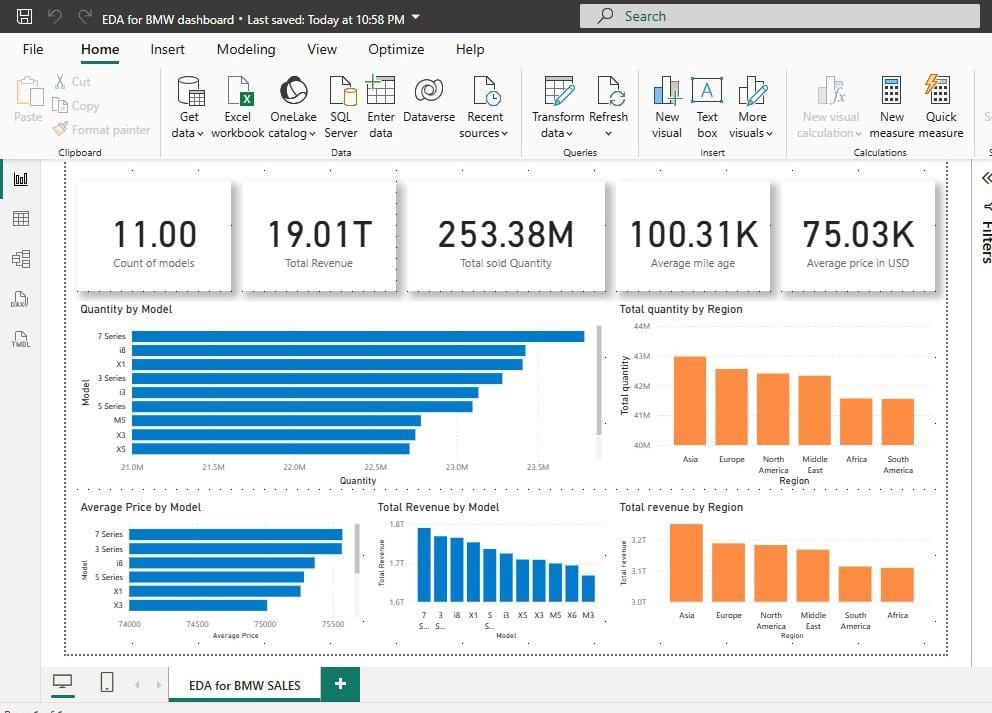

What the dashboard file says about the page in this screenshot:
{"tool":"powerbi","page":{"name":"EDA for BMW SALES","canvas":[1280,720],"ordinal":0},"visuals":[{"type":"card","fields":{"Values":["Sum(Measures (2).Measure value)"]},"box":[496,32,288,160],"z":0},{"type":"card","fields":{"Values":["Sum(Measures (2).Measure value)"]},"box":[256,32,224,160],"z":1},{"type":"card","fields":{"Values":["Sum(Measures (2).Measure value)"]},"box":[1040,32,224,160],"z":2},{"type":"card","fields":{"Values":["Sum(Measures (2).Measure value)"]},"box":[800,32,224,160],"z":3},{"type":"card","fields":{"Values":["Sum(Measures (2).Measure value)"]},"box":[16,32,224,160],"z":4},{"type":"barChart","fields":{"Category":["Total Quantities by model.Model"],"Y":["Sum(Total Quantities by model.Quantity)"]},"box":[16,208,768,272],"z":5},{"type":"clusteredColumnChart","fields":{"Category":["Total Revenue By model.Model"],"Y":["Sum(Total Revenue By model.Total Revenue)"]},"box":[448,496,336,208],"z":6},{"type":"clusteredColumnChart","fields":{"Y":["Sum(Total Quantities by region.Quantity)"],"Category":["Total Quantities by region.Region"]},"box":[800,208,464,272],"z":7},{"type":"clusteredBarChart","fields":{"Category":["Average Price By model.Model"],"Y":["Sum(Average Price By model.Average Price)"]},"box":[16,496,416,208],"z":8},{"type":"clusteredColumnChart","fields":{"Category":["Total Revenue By Region.Column1"],"Y":["Sum(Total Revenue By Region.Column2)"]},"box":[800,496,464,208],"z":9}]}

Visuals, with their boxes on the page's 1280x720 design canvas (x1, y1, x2, y2). These are canvas units, not pixel positions in the 992x713 screenshot, which may show the page scaled, cropped or inside an application window:
card - Sum(Measures (2).Measure value): (496,32,784,192)
card - Sum(Measures (2).Measure value): (256,32,480,192)
card - Sum(Measures (2).Measure value): (1040,32,1264,192)
card - Sum(Measures (2).Measure value): (800,32,1024,192)
card - Sum(Measures (2).Measure value): (16,32,240,192)
barChart - Total Quantities by model.Model x Sum(Total Quantities by model.Quantity): (16,208,784,480)
clusteredColumnChart - Total Revenue By model.Model x Sum(Total Revenue By model.Total Revenue): (448,496,784,704)
clusteredColumnChart - Sum(Total Quantities by region.Quantity) x Total Quantities by region.Region: (800,208,1264,480)
clusteredBarChart - Average Price By model.Model x Sum(Average Price By model.Average Price): (16,496,432,704)
clusteredColumnChart - Total Revenue By Region.Column1 x Sum(Total Revenue By Region.Column2): (800,496,1264,704)
